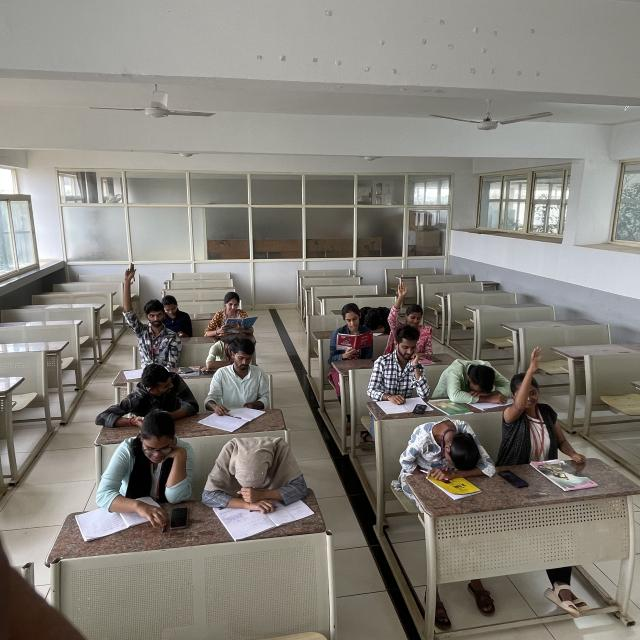Hand Rising: (498, 345, 580, 467), (117, 258, 178, 362), (386, 279, 436, 349)
Reading: (93, 418, 202, 524), (206, 290, 264, 339), (325, 300, 372, 357)
Sleeping: (212, 431, 318, 505), (396, 414, 492, 472), (440, 351, 517, 401), (355, 298, 392, 334)
Using Phone: (364, 327, 424, 401), (161, 293, 195, 338)
Writing: (205, 342, 270, 424)
